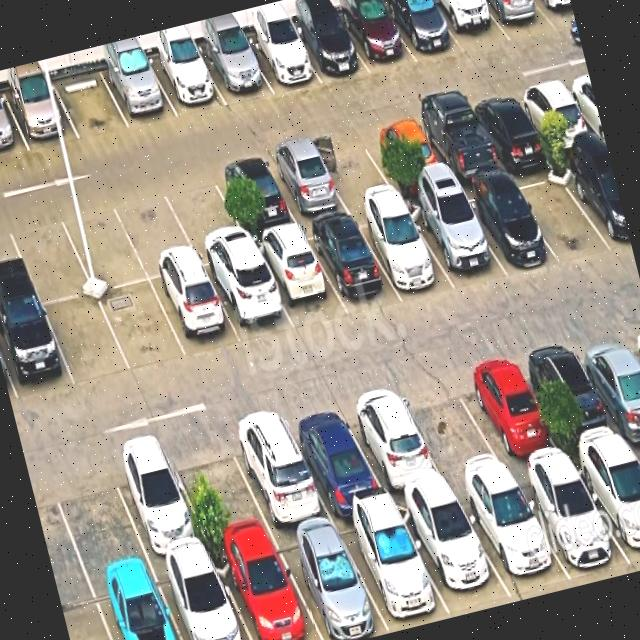empty: (392, 366, 510, 490), (163, 426, 272, 549), (45, 451, 148, 580), (507, 159, 612, 260), (159, 169, 252, 266), (56, 195, 148, 291), (111, 184, 201, 279), (4, 207, 93, 303), (97, 280, 187, 372), (43, 293, 131, 386), (310, 132, 397, 208), (51, 68, 129, 139)
occupied: (334, 505, 451, 633), (512, 461, 631, 580), (395, 493, 512, 613), (222, 406, 332, 533), (271, 522, 389, 640), (455, 476, 571, 596), (453, 351, 566, 473), (103, 438, 210, 563), (337, 382, 450, 499), (280, 397, 389, 518), (520, 336, 627, 457), (211, 536, 322, 640), (454, 178, 557, 275), (404, 192, 507, 289), (251, 228, 348, 331), (302, 215, 401, 314), (353, 204, 455, 298), (571, 443, 640, 570), (152, 551, 250, 640), (150, 268, 242, 358), (570, 325, 640, 442), (204, 256, 295, 343), (558, 148, 632, 250), (412, 104, 504, 185), (0, 301, 74, 401), (210, 156, 298, 238), (262, 144, 349, 223), (90, 565, 181, 640), (361, 118, 450, 193), (466, 90, 551, 165), (513, 78, 597, 152), (335, 0, 416, 73), (288, 13, 369, 83), (3, 79, 79, 151), (99, 58, 177, 128), (146, 49, 226, 117), (241, 27, 321, 93), (381, 0, 464, 62), (198, 38, 272, 104), (429, 0, 510, 54), (481, 0, 556, 40), (0, 91, 29, 158), (535, 0, 576, 28)
